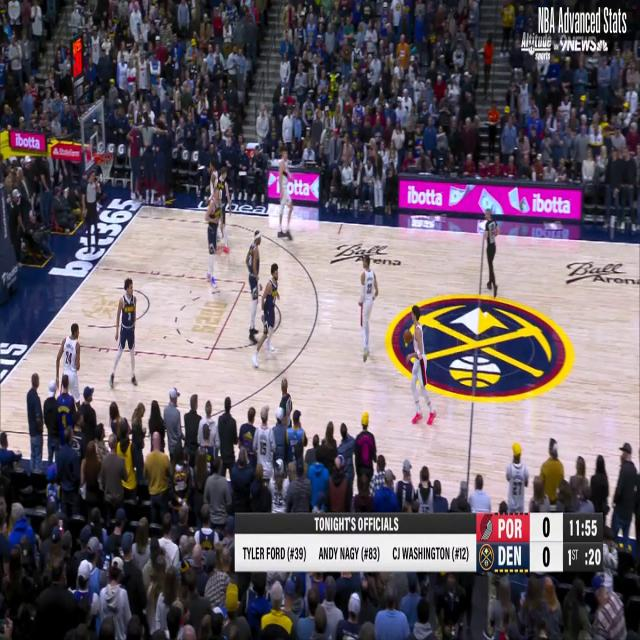ball: (403, 327, 413, 346)
judge: (481, 208, 501, 299), (82, 168, 100, 257)
player: (406, 306, 438, 425), (108, 280, 136, 387), (254, 265, 280, 366), (357, 255, 379, 366), (245, 232, 263, 338), (56, 332, 80, 405), (206, 185, 223, 288), (277, 143, 295, 240), (213, 166, 231, 253)
